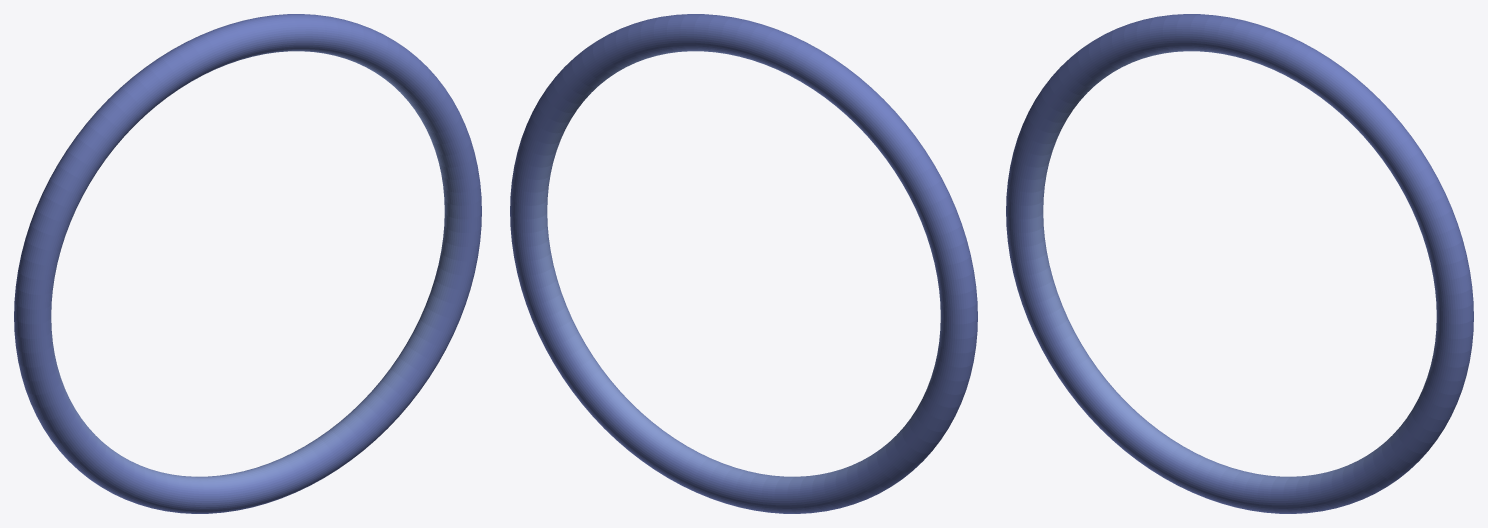
The picture shows the model from 3 angles, left to right: view 1: azimuth 30°, elevation 25°; view 2: azimuth 150°, elevation 25°; view 3: azimuth 330°, elevation 25°; orthographic projection.
Visible parts, largest first — view 1: world; view 2: world; view 3: world.
Part boxes in pixels (x1,y1,x2,y2): world: [14, 14, 481, 513]; world: [510, 14, 977, 513]; world: [1006, 14, 1473, 513].
Size of the model in its own units: 28.67 by 28.67 by 2.
